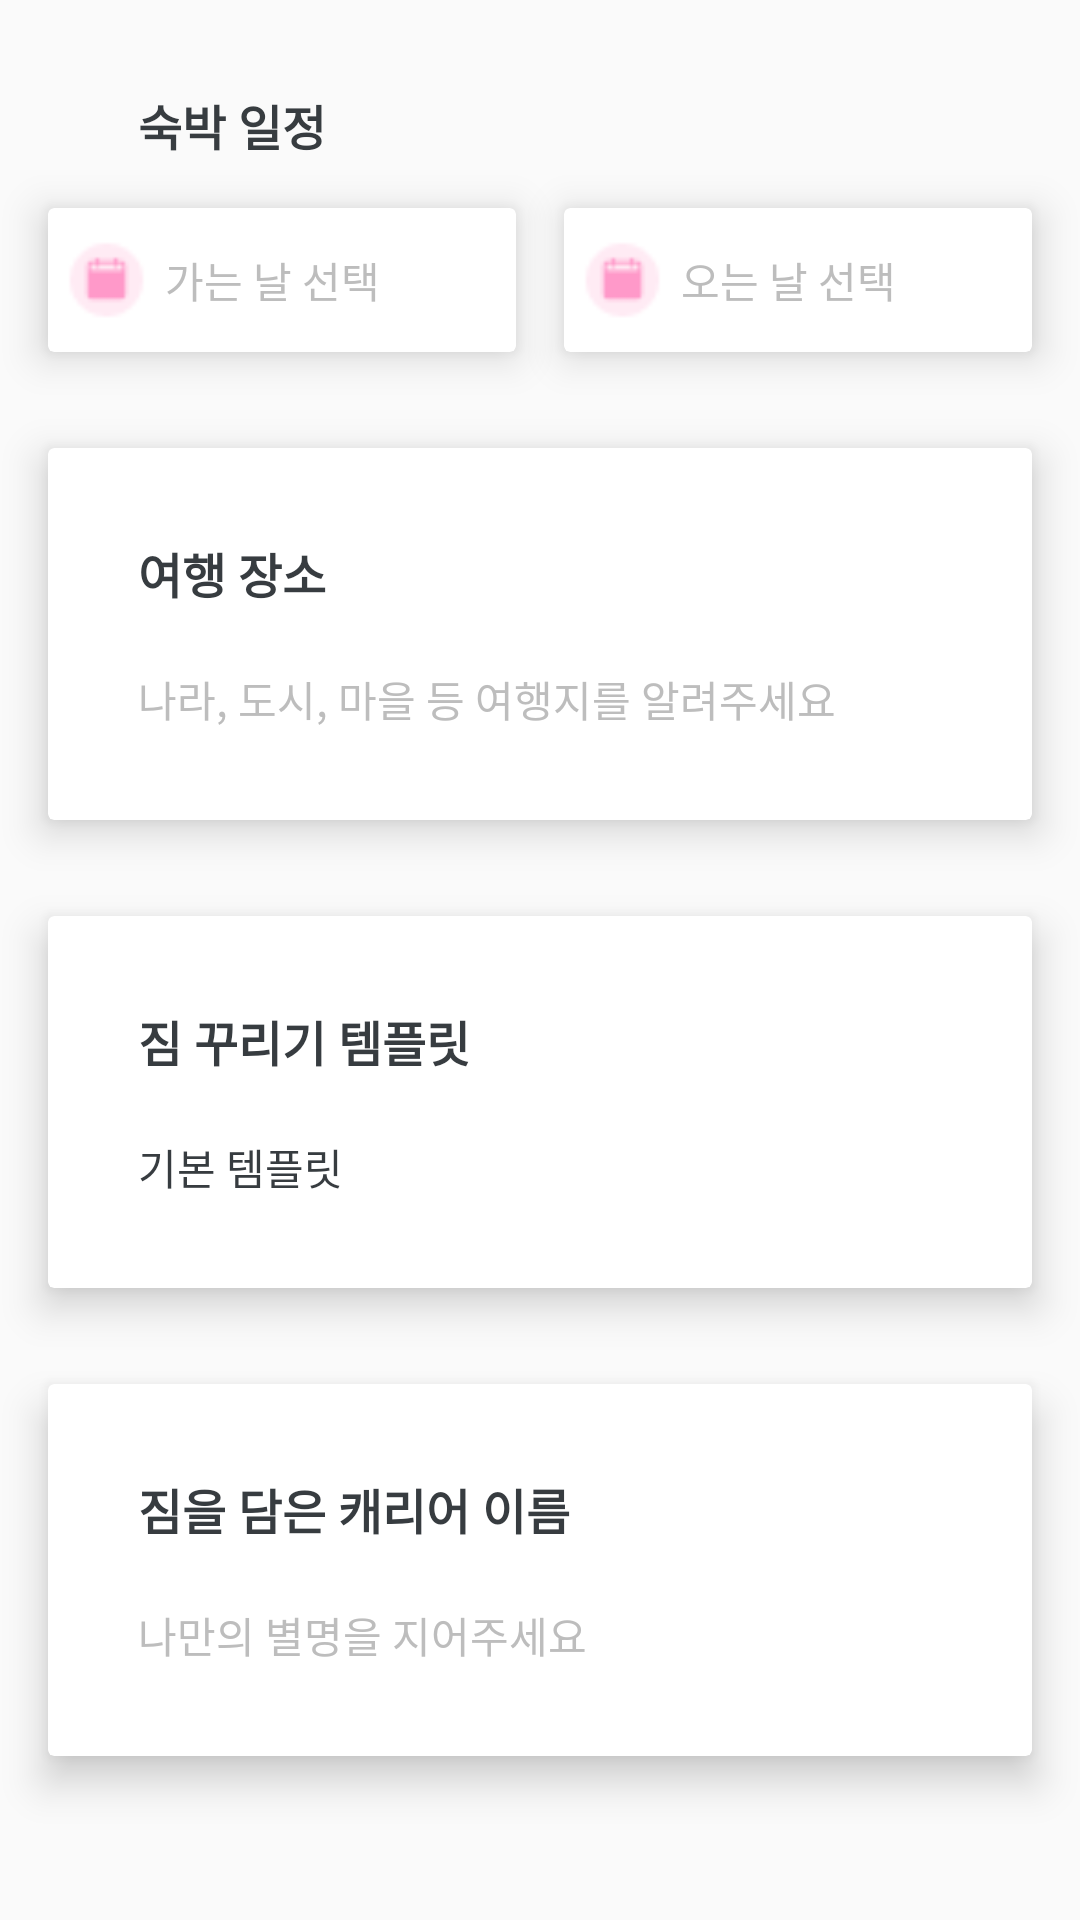

Icon bounding boxes for this 1080x1920 phone screenshot, format detection(x1, y1, x2, y2):
calendar: detection(83, 256, 129, 303), detection(599, 256, 645, 303)
